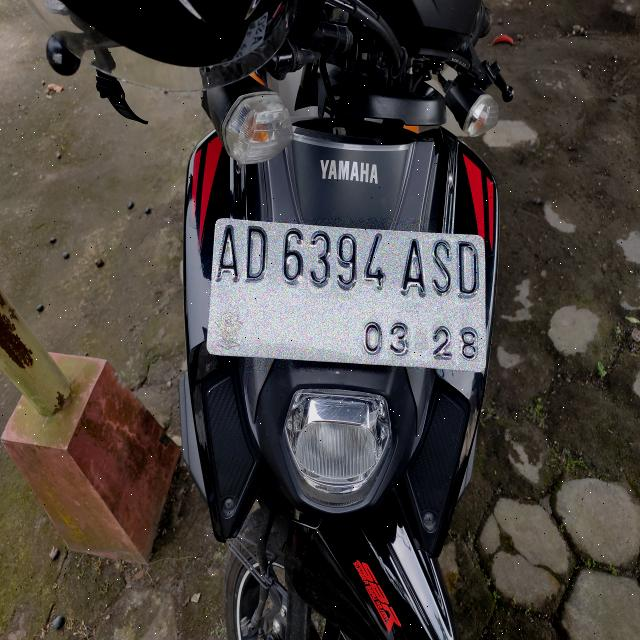plate: (208, 219, 485, 371)
